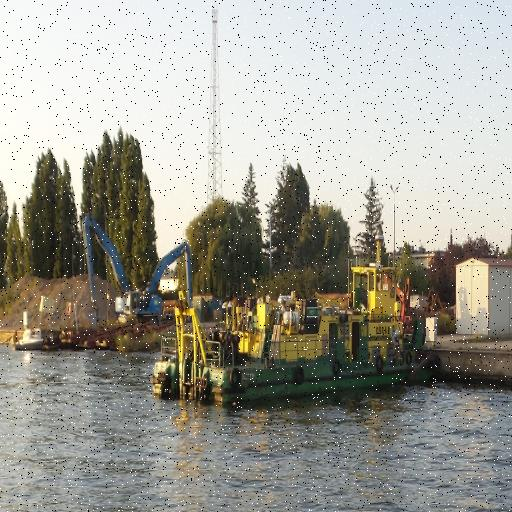tugboat: (150, 232, 434, 416)
